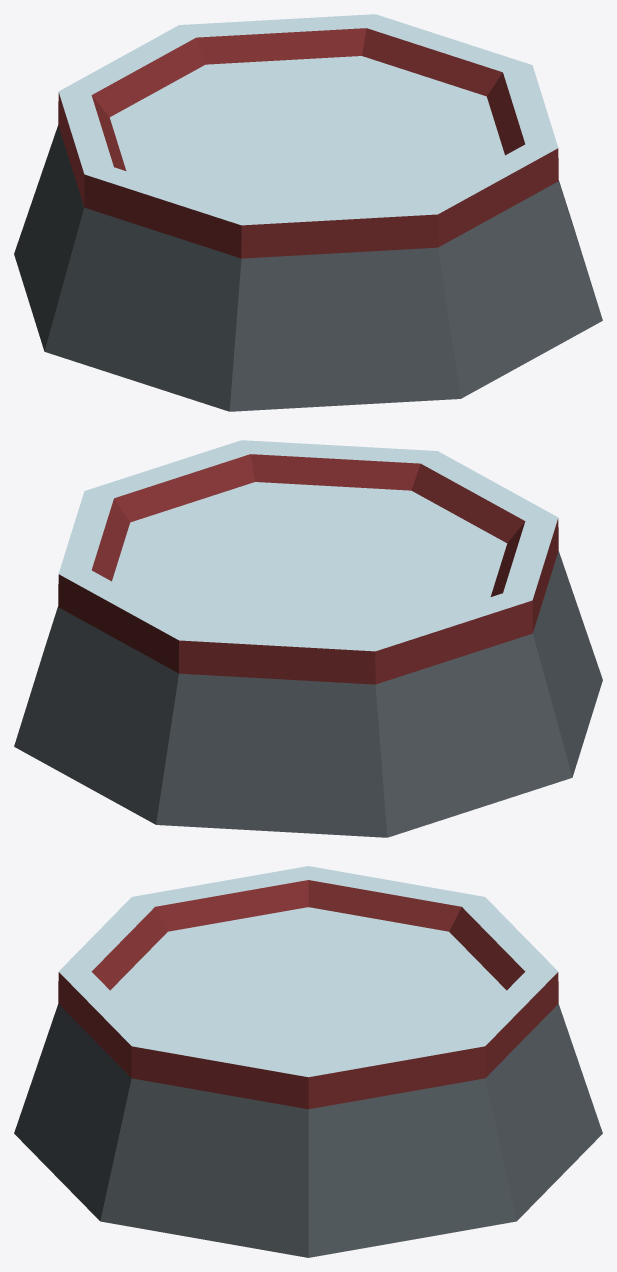
Rendered from SM_Bld_Pirate_Fort_03_Snow.fbx.
3 renders of one model, top to bottom at view 1: azimuth 30°, elevation 25°; view 2: azimuth 150°, elevation 25°; view 3: azimuth 270°, elevation 25°, orthographic. The views are drawn at different scales.
Parts seen in each view (by area): view 1: SM_Bld_Pirate_Fort_03_Snow; view 2: SM_Bld_Pirate_Fort_03_Snow; view 3: SM_Bld_Pirate_Fort_03_Snow.
Boxes of the visible parts, box(x1,y1,x2,y2) form: SM_Bld_Pirate_Fort_03_Snow: box(14, 14, 602, 411); SM_Bld_Pirate_Fort_03_Snow: box(14, 440, 602, 837); SM_Bld_Pirate_Fort_03_Snow: box(14, 866, 602, 1257).
Size of the model in its own units: 215 by 65.16 by 215.
Materials: 1 (1 with a texture image).
